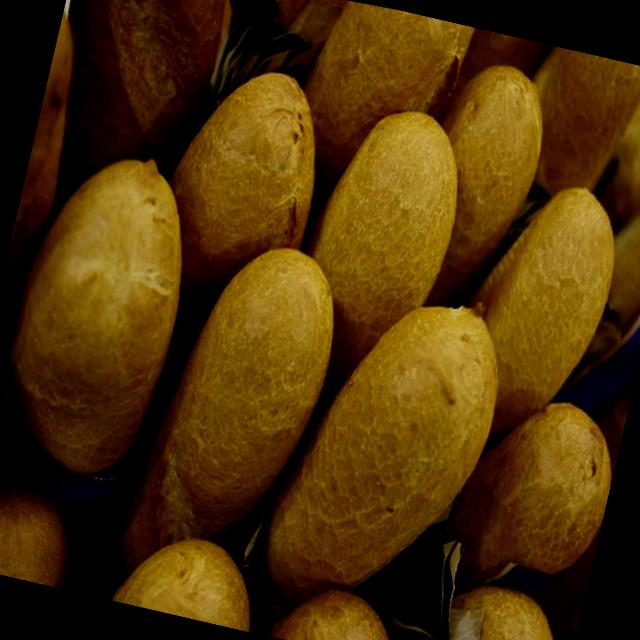Bread: (127, 0, 640, 499)
